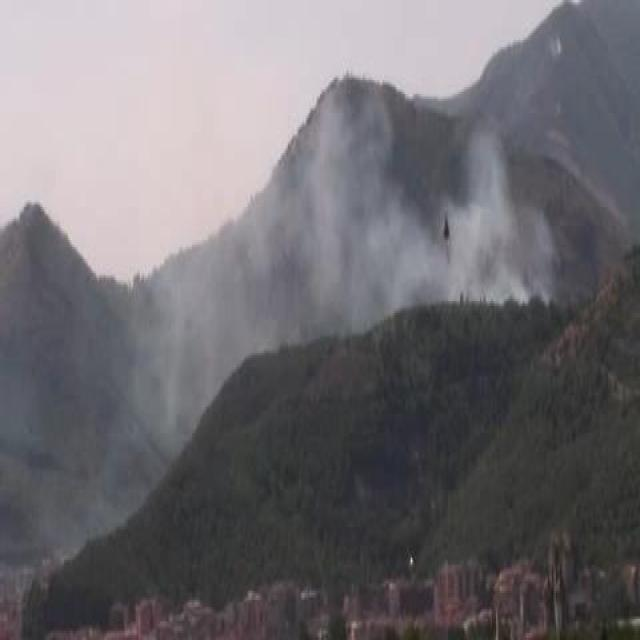Smoke: (327, 96, 538, 299), (154, 230, 258, 410)
